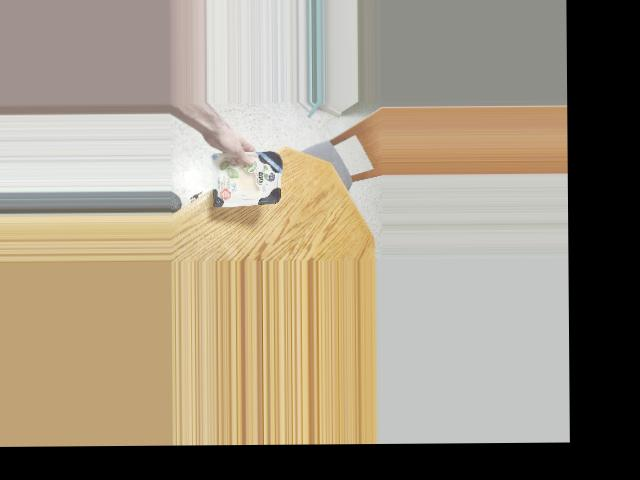cheese: (196, 149, 298, 206)
